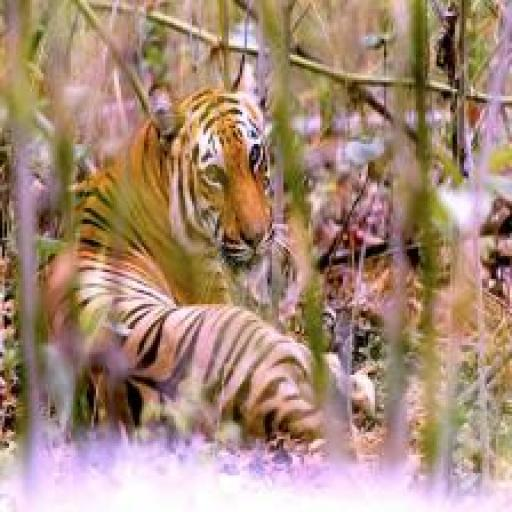Tiger: (32, 55, 378, 452)
